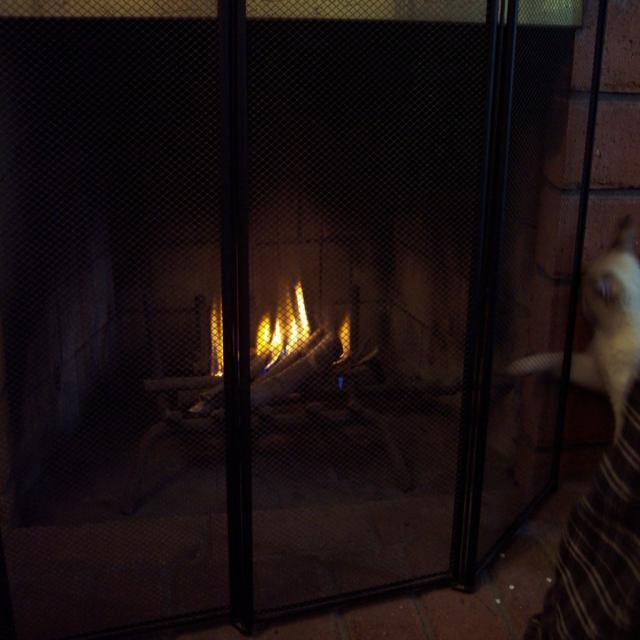Fire: (202, 270, 359, 380)
